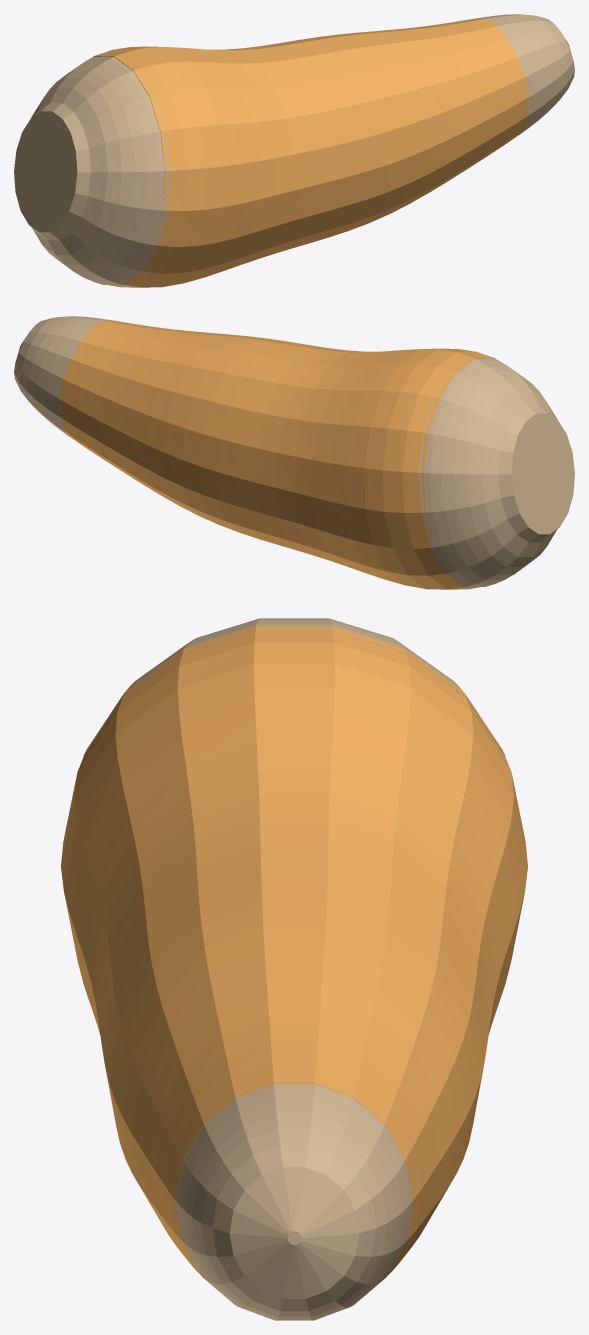
File: fresh-produce-and-groceries-sweet-potato-7733e52b__24352.glb
3 renders of one model, top to bottom at view 1: azimuth 30°, elevation 25°; view 2: azimuth 150°, elevation 25°; view 3: azimuth 270°, elevation 25°, orthographic. The views are drawn at different scales.
Visible parts, largest first — view 1: sweet-potato; view 2: sweet-potato; view 3: sweet-potato.
Boxes of the visible parts, box(x1,y1,x2,y2) form: sweet-potato: box(14, 14, 574, 287); sweet-potato: box(14, 316, 574, 589); sweet-potato: box(61, 618, 527, 1320).
Size of the model in its own units: 0.1875 by 0.0739 by 0.071.
